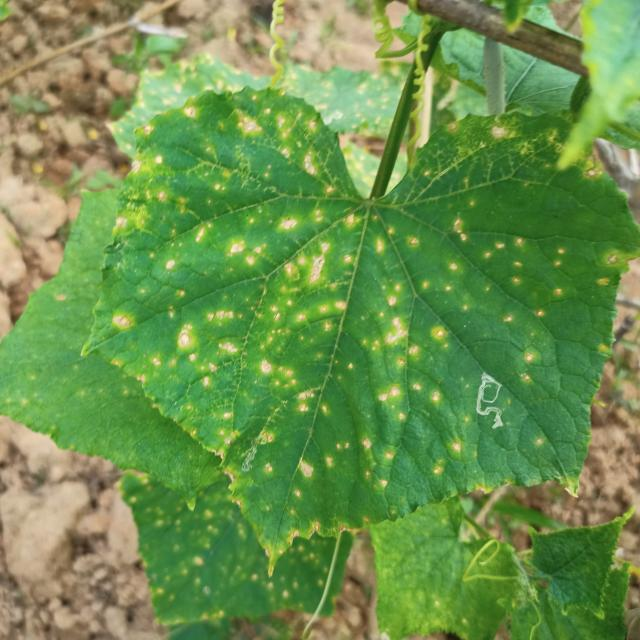disease_cucumber: (120, 99, 580, 512)
